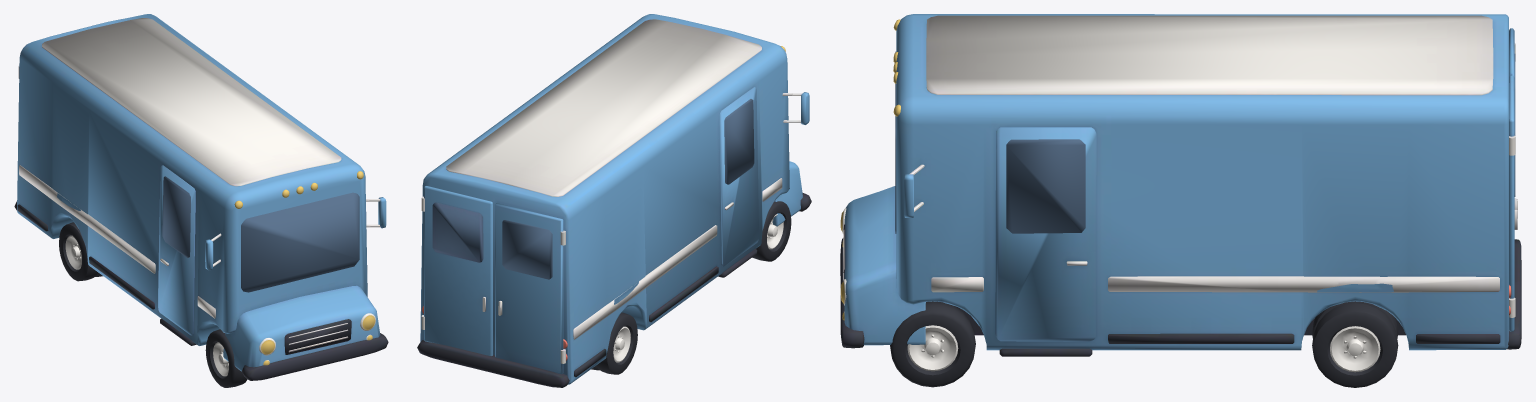
The model's file is delivery-truck.glb.
The picture shows the model from 3 angles, left to right: view 1: azimuth 30°, elevation 25°; view 2: azimuth 150°, elevation 25°; view 3: azimuth 270°, elevation 25°; orthographic projection. The views are drawn at different scales.
Visible parts, largest first — view 1: delivery-truck_body, delivery-truck_rear_windows, delivery-truck_wheel_fl, delivery-truck_headlights; view 2: delivery-truck_body, delivery-truck_rear_leaf, delivery-truck_rear_windows, delivery-truck_wheel_fl, delivery-truck_headlights; view 3: delivery-truck_body, delivery-truck_wheel_fl, delivery-truck_rear_windows, delivery-truck_headlights, delivery-truck_rear_leaf.
Boxes of the visible parts, x1,y1,x2,y2 form: delivery-truck_body: (14,14,388,380); delivery-truck_rear_windows: (162,176,359,292); delivery-truck_wheel_fl: (59,222,247,387); delivery-truck_headlights: (65,171,375,376); delivery-truck_body: (417,14,811,387); delivery-truck_rear_leaf: (421,185,492,355); delivery-truck_rear_windows: (502,99,754,279); delivery-truck_wheel_fl: (591,201,791,374); delivery-truck_headlights: (613,46,785,362); delivery-truck_body: (840,14,1521,356); delivery-truck_wheel_fl: (890,301,1398,387); delivery-truck_rear_windows: (895,51,1515,233); delivery-truck_headlights: (840,19,1380,372); delivery-truck_rear_leaf: (1509,75,1517,331).
Size of the model in its own units: 2.76 by 2.96 by 6.32.
7 materials, 2 textured.
